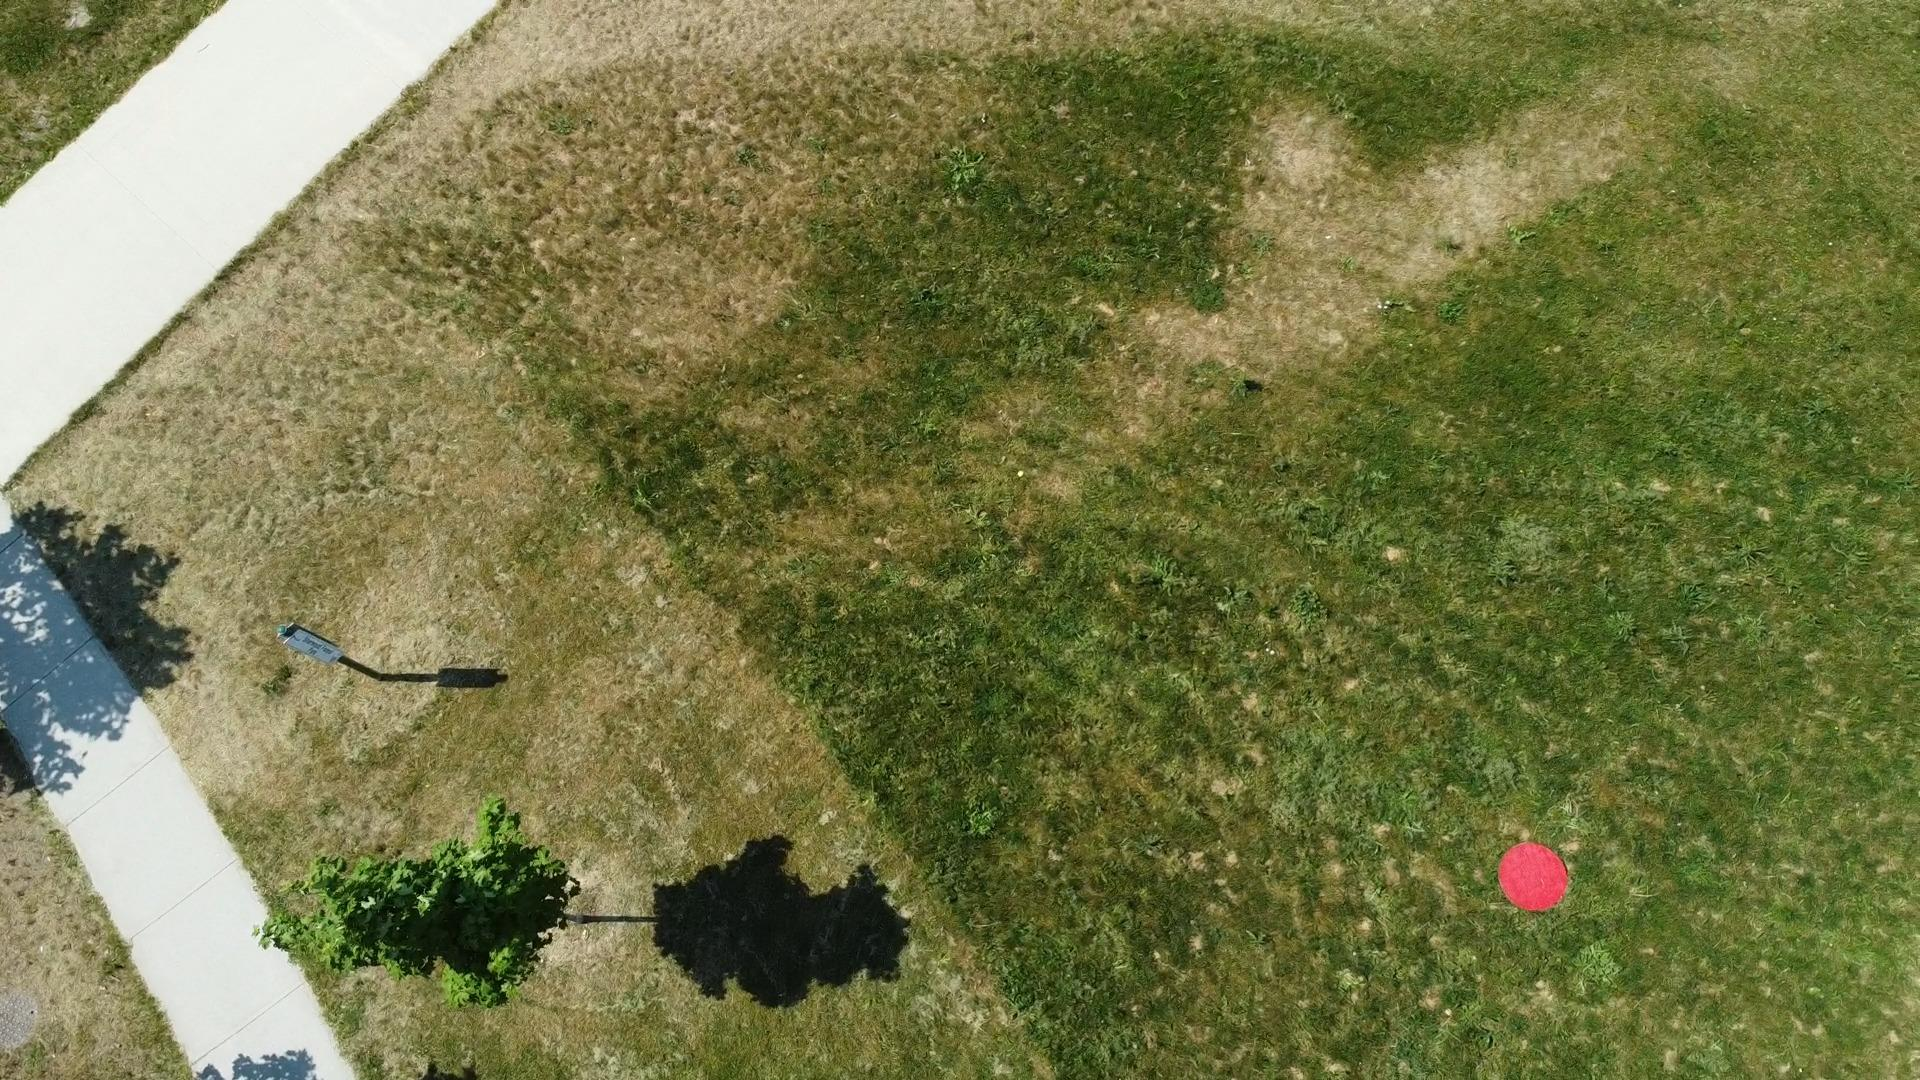Red: (1494, 839, 1572, 918)
